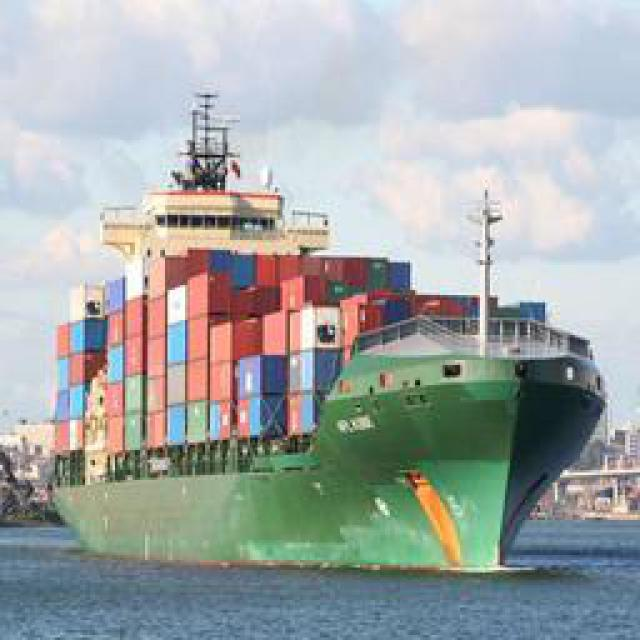Ship: (26, 66, 601, 581)
